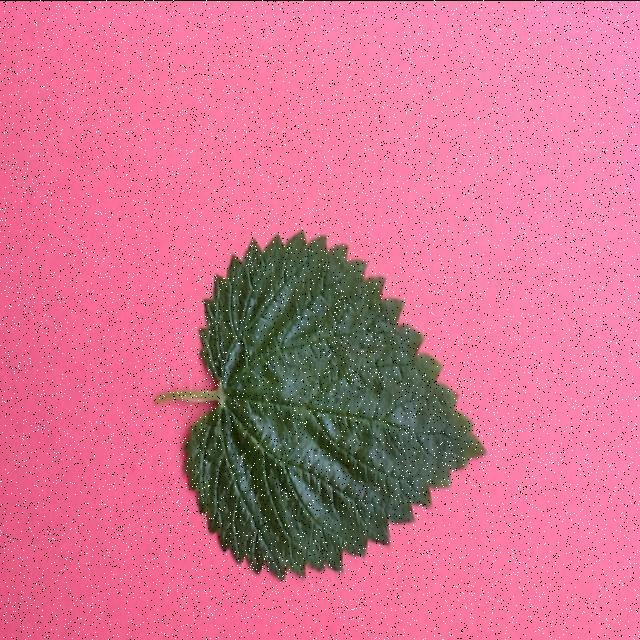foliage: (150, 223, 492, 586)
